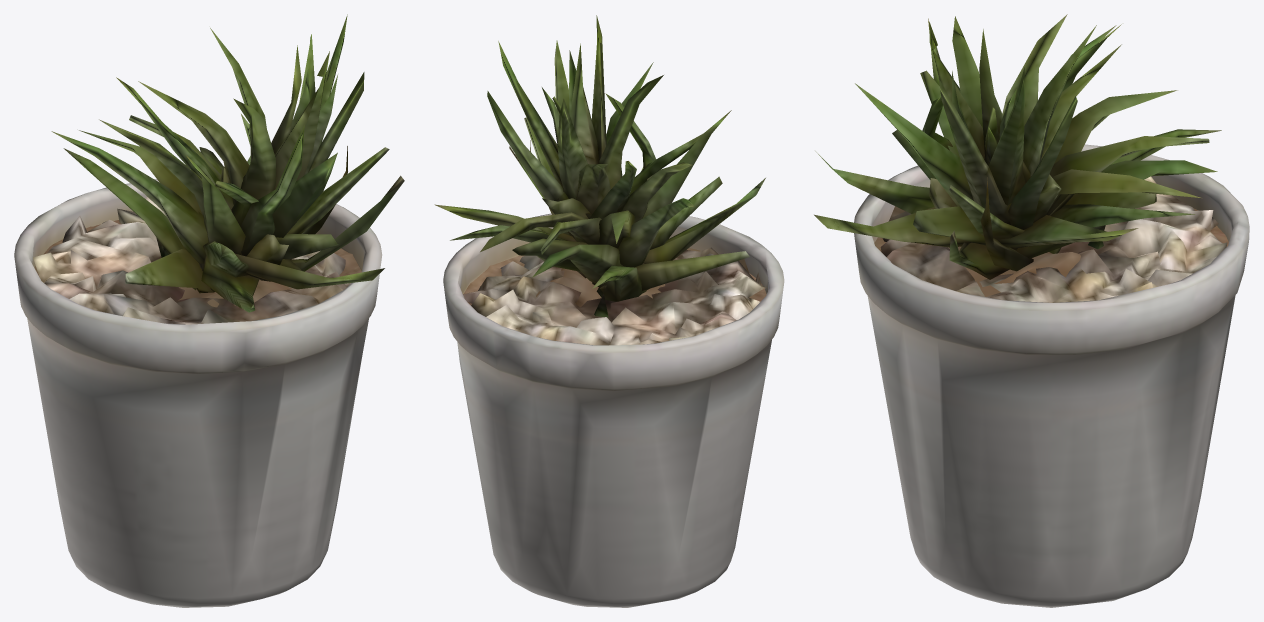
Rendered from potted_plant_04.glb.
3 views of the same model, side by side, from view 1: azimuth 30°, elevation 25°; view 2: azimuth 150°, elevation 25°; view 3: azimuth 270°, elevation 25° (orthographic). The views are drawn at different scales.
Parts seen in each view (by area): view 1: potted_plant_04_pot, potted_plant_04_plant, potted_plant_04_ground, potted_plant_04_dirt; view 2: potted_plant_04_pot, potted_plant_04_plant, potted_plant_04_ground, potted_plant_04_dirt; view 3: potted_plant_04_pot, potted_plant_04_plant, potted_plant_04_ground, potted_plant_04_dirt.
Boxes of the visible parts, <box> form: potted_plant_04_pot: <box>14,179,382,607</box>; potted_plant_04_plant: <box>51,14,404,312</box>; potted_plant_04_ground: <box>33,197,350,324</box>; potted_plant_04_dirt: <box>34,220,361,307</box>; potted_plant_04_pot: <box>443,213,784,607</box>; potted_plant_04_plant: <box>434,15,765,317</box>; potted_plant_04_ground: <box>463,247,766,345</box>; potted_plant_04_dirt: <box>463,248,766,307</box>; potted_plant_04_pot: <box>854,144,1249,607</box>; potted_plant_04_plant: <box>814,14,1221,279</box>; potted_plant_04_ground: <box>880,176,1227,302</box>; potted_plant_04_dirt: <box>874,208,1228,296</box>.
Bounding box in the file's own units: 0.1672 × 0.2671 × 0.1838.
Materials: 1 (1 with a texture image).
